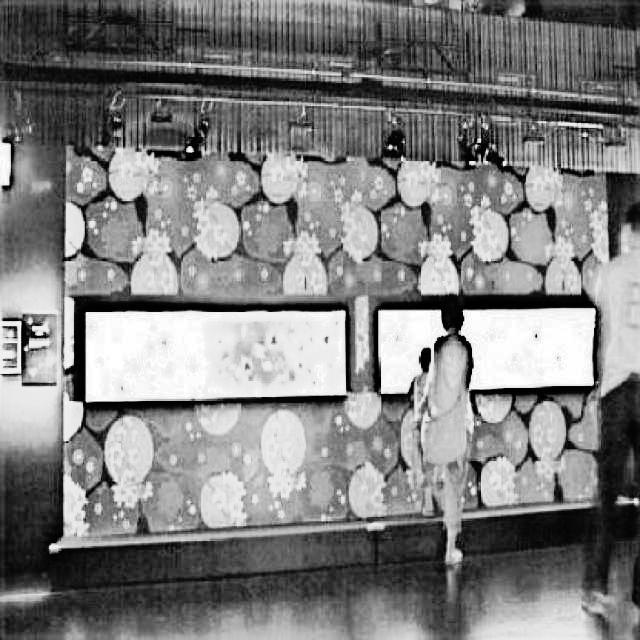Person: (420, 292, 475, 566)
